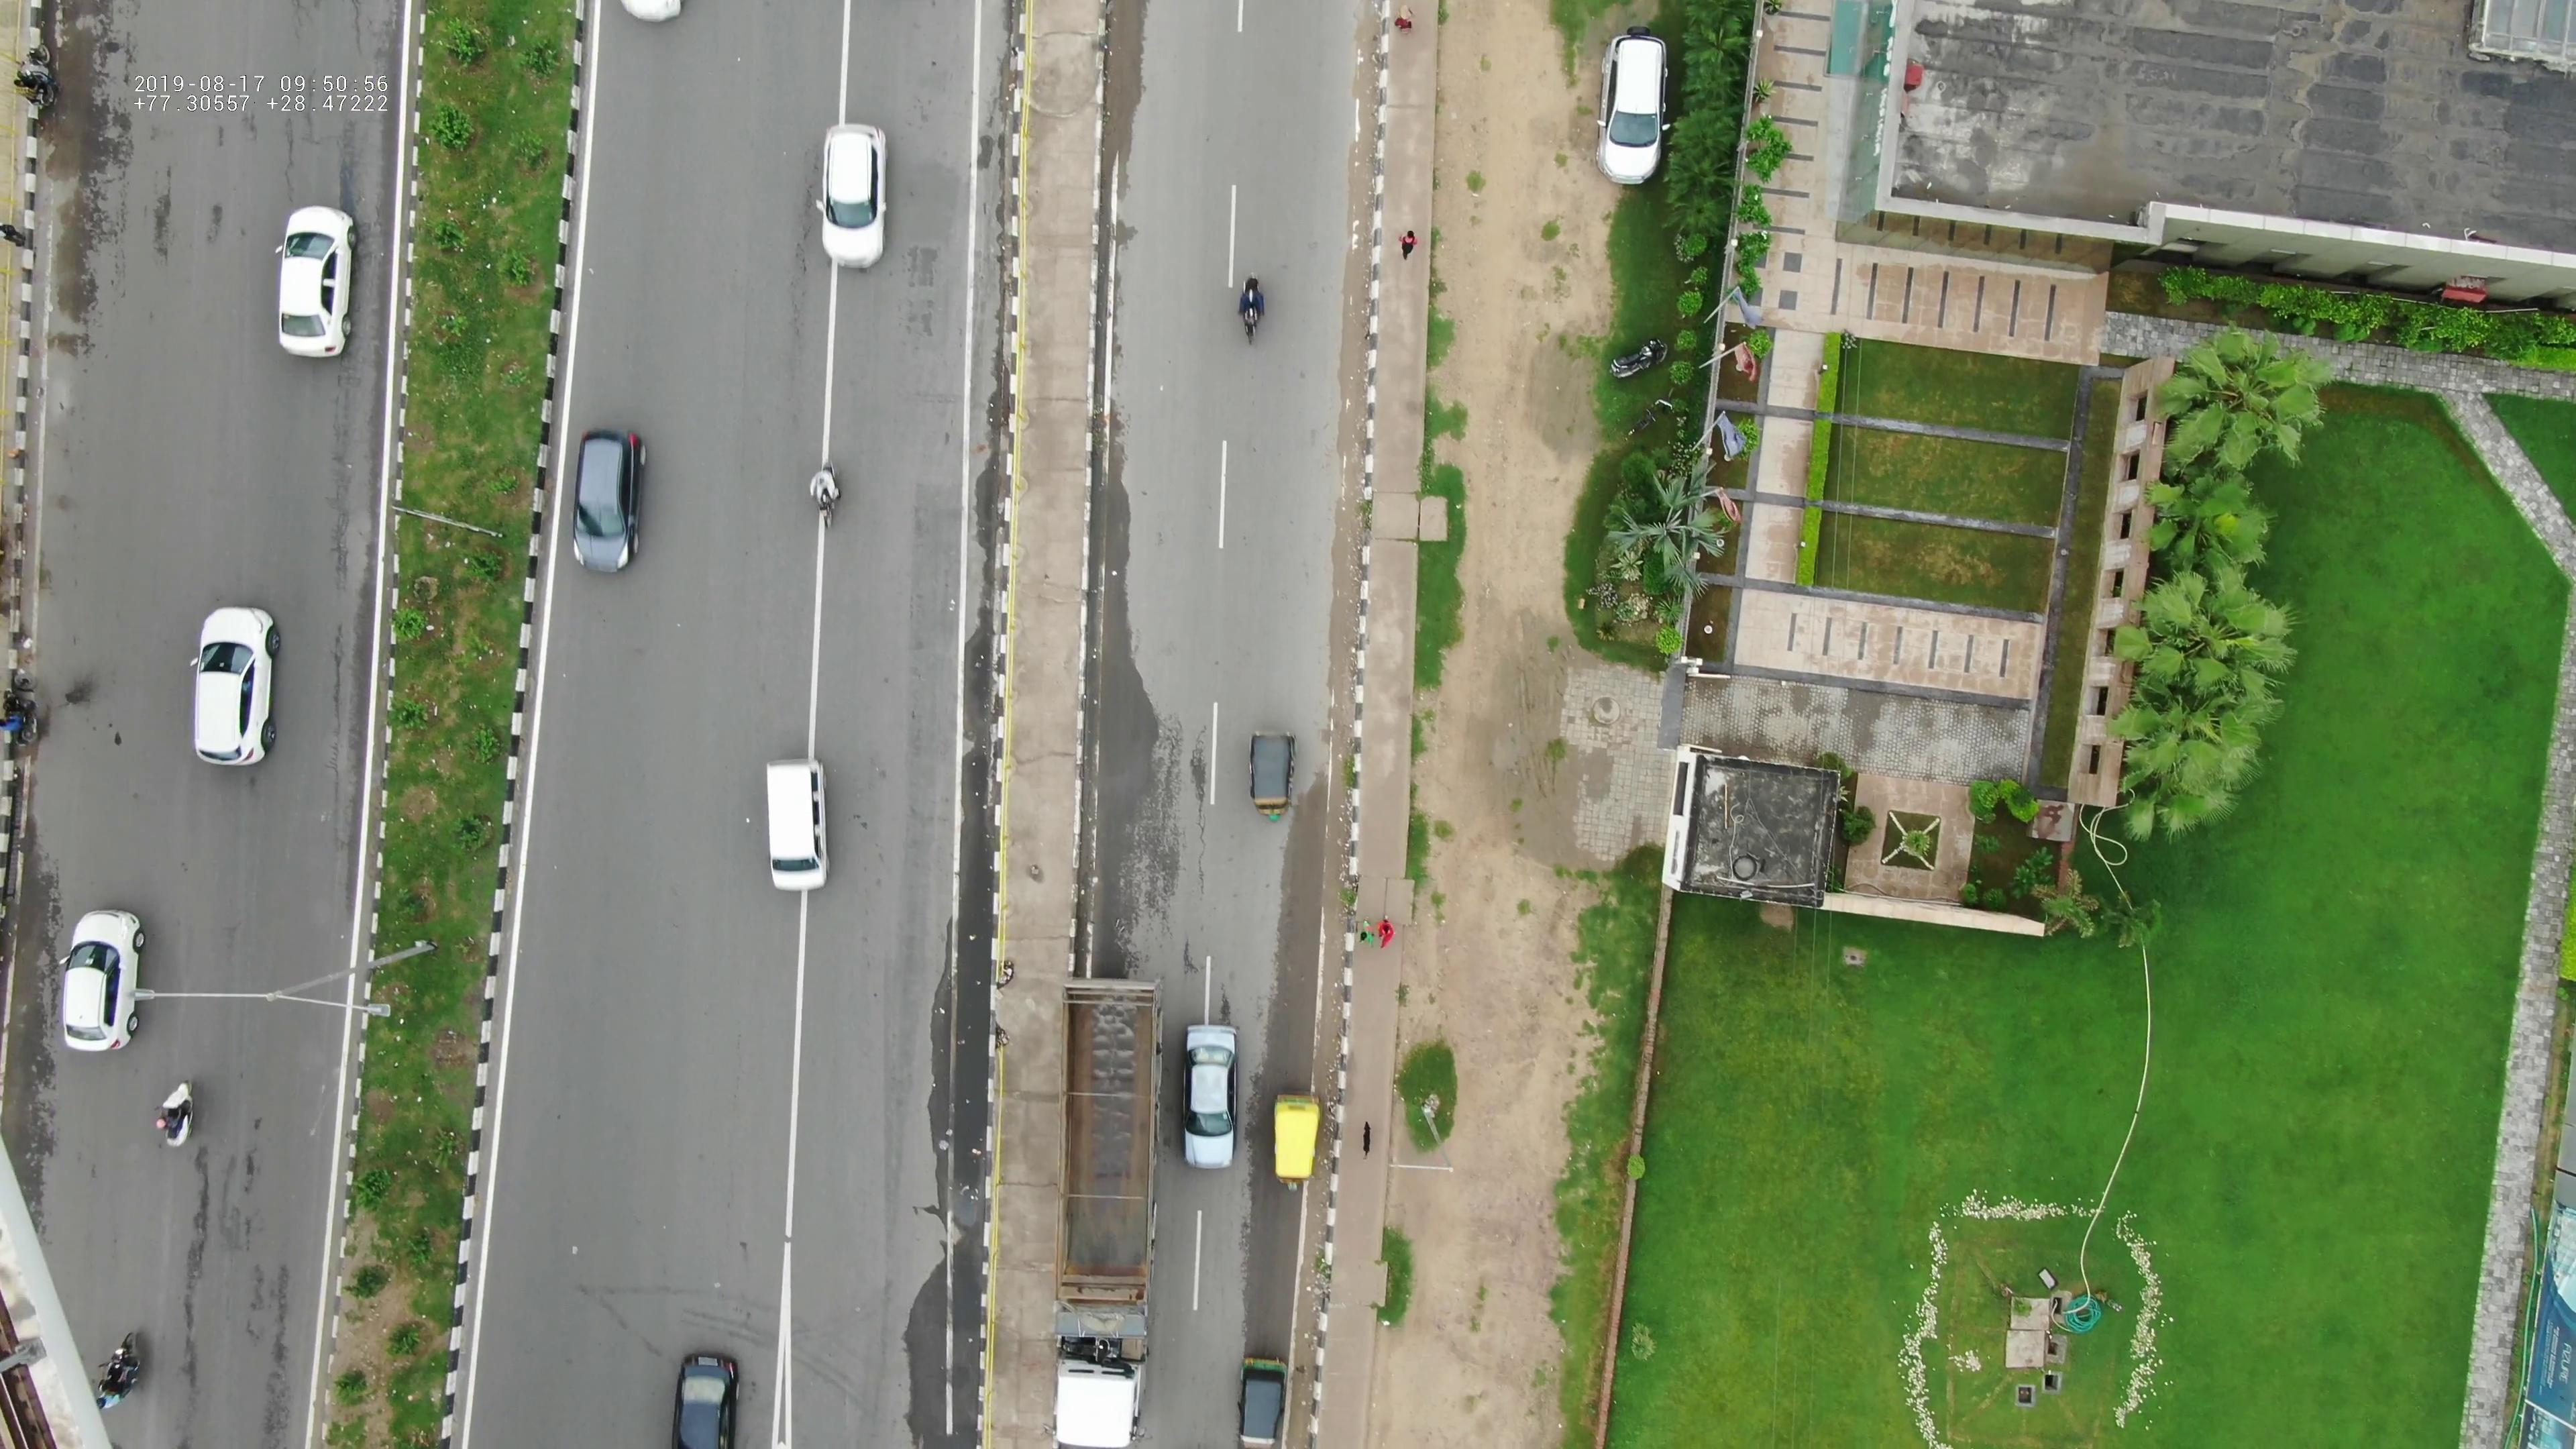Hair_cracks: (1177, 688, 1223, 902)
Waterlogging: (888, 860, 991, 1205)
